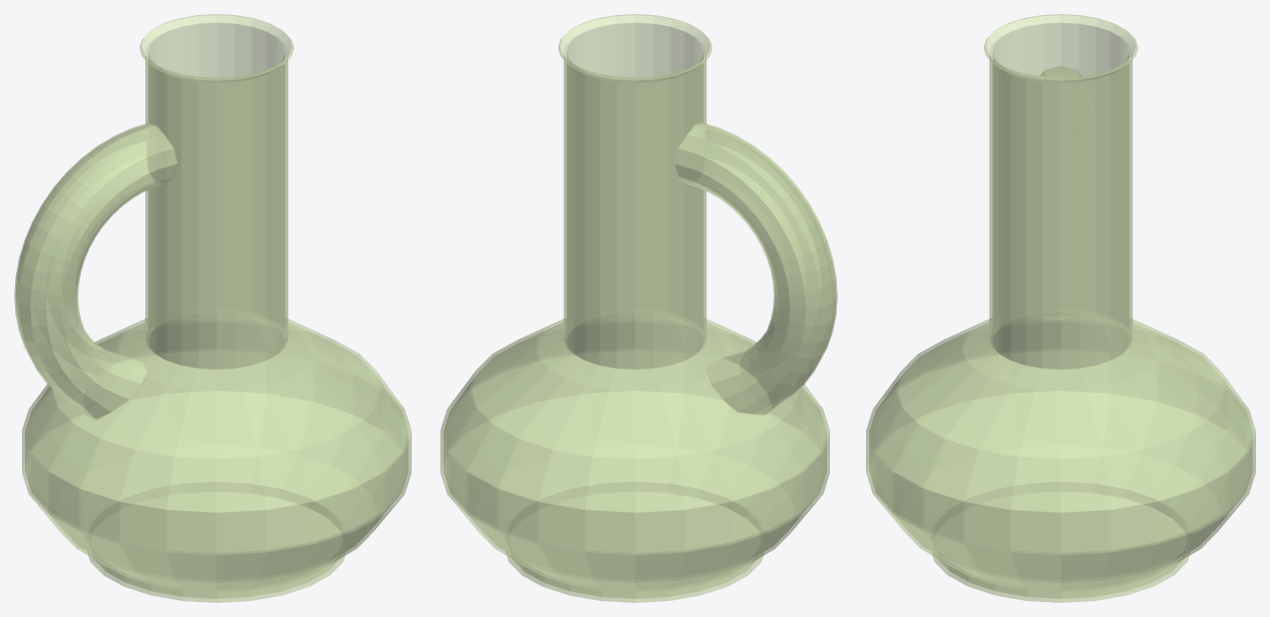
The model's file is Volumetric flask .glb.
3 renders of one model, left to right at view 1: azimuth 30°, elevation 25°; view 2: azimuth 150°, elevation 25°; view 3: azimuth 270°, elevation 25°, orthographic.
Visible parts, largest first — view 1: Cirkel.001, Torus; view 2: Cirkel.001, Torus; view 3: Cirkel.001.
Part boxes in pixels (left/top/right/bottom): Cirkel.001: left=22, top=14, right=411, bottom=602; Torus: left=14, top=122, right=177, bottom=419; Cirkel.001: left=440, top=14, right=829, bottom=602; Torus: left=674, top=122, right=837, bottom=415; Cirkel.001: left=866, top=14, right=1255, bottom=602.
Bounding box in the file's own units: 3.32 × 4.33 × 3.05.
2 materials, 2 textured.
